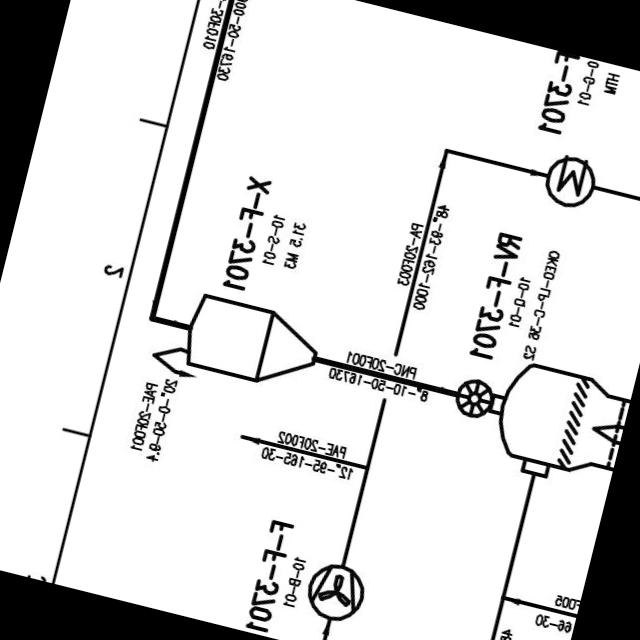F: (294, 552, 373, 630)
HE: (536, 147, 602, 210)
RV1: (449, 373, 498, 424)
X: (172, 282, 334, 402)
